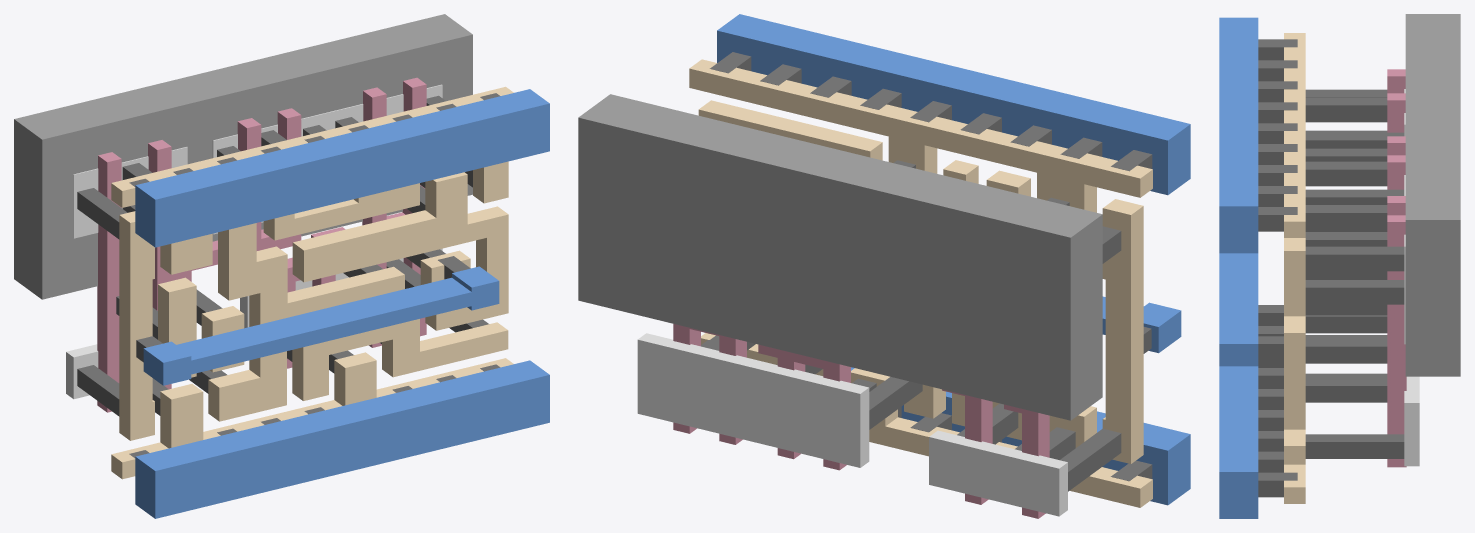
Rendered from sky130_fd_sc_hd__ebufn_2.gds.gltf.
3 views of the same model, side by side, from view 1: azimuth 30°, elevation 25°; view 2: azimuth 150°, elevation 25°; view 3: azimuth 270°, elevation 25° (orthographic). The views are drawn at different scales.
Parts seen in each view (by area): view 1: sky130_fd_sc_hd__ebufn_2_met1, sky130_fd_sc_hd__ebufn_2_li1, sky130_fd_sc_hd__ebufn_2_nwell, sky130_fd_sc_hd__ebufn_2_poly, sky130_fd_sc_hd__ebufn_2_licon, sky130_fd_sc_hd__ebufn_2_diff, sky130_fd_sc_hd__ebufn_2_mcon; view 2: sky130_fd_sc_hd__ebufn_2_nwell, sky130_fd_sc_hd__ebufn_2_li1, sky130_fd_sc_hd__ebufn_2_met1, sky130_fd_sc_hd__ebufn_2_diff, sky130_fd_sc_hd__ebufn_2_mcon, sky130_fd_sc_hd__ebufn_2_licon, sky130_fd_sc_hd__ebufn_2_poly; view 3: sky130_fd_sc_hd__ebufn_2_licon, sky130_fd_sc_hd__ebufn_2_nwell, sky130_fd_sc_hd__ebufn_2_met1, sky130_fd_sc_hd__ebufn_2_mcon, sky130_fd_sc_hd__ebufn_2_li1, sky130_fd_sc_hd__ebufn_2_poly, sky130_fd_sc_hd__ebufn_2_diff.
Part boxes in pixels (left/top/right/bottom): sky130_fd_sc_hd__ebufn_2_met1: left=135, top=89, right=549, bottom=518; sky130_fd_sc_hd__ebufn_2_li1: left=111, top=86, right=513, bottom=479; sky130_fd_sc_hd__ebufn_2_nwell: left=14, top=14, right=472, bottom=299; sky130_fd_sc_hd__ebufn_2_poly: left=97, top=77, right=426, bottom=412; sky130_fd_sc_hd__ebufn_2_licon: left=77, top=95, right=488, bottom=416; sky130_fd_sc_hd__ebufn_2_diff: left=66, top=84, right=442, bottom=399; sky130_fd_sc_hd__ebufn_2_mcon: left=129, top=93, right=500, bottom=457; sky130_fd_sc_hd__ebufn_2_nwell: left=578, top=94, right=1102, bottom=420; sky130_fd_sc_hd__ebufn_2_li1: left=689, top=59, right=1152, bottom=507; sky130_fd_sc_hd__ebufn_2_met1: left=717, top=14, right=1190, bottom=505; sky130_fd_sc_hd__ebufn_2_diff: left=637, top=333, right=1067, bottom=516; sky130_fd_sc_hd__ebufn_2_mcon: left=710, top=52, right=1152, bottom=481; sky130_fd_sc_hd__ebufn_2_licon: left=701, top=160, right=1121, bottom=491; sky130_fd_sc_hd__ebufn_2_poly: left=673, top=324, right=1049, bottom=518; sky130_fd_sc_hd__ebufn_2_licon: left=1305, top=89, right=1404, bottom=458; sky130_fd_sc_hd__ebufn_2_nwell: left=1405, top=14, right=1460, bottom=376; sky130_fd_sc_hd__ebufn_2_met1: left=1219, top=17, right=1258, bottom=518; sky130_fd_sc_hd__ebufn_2_mcon: left=1258, top=39, right=1297, bottom=497; sky130_fd_sc_hd__ebufn_2_li1: left=1284, top=33, right=1305, bottom=503; sky130_fd_sc_hd__ebufn_2_poly: left=1387, top=69, right=1406, bottom=467; sky130_fd_sc_hd__ebufn_2_diff: left=1404, top=89, right=1419, bottom=466.
Bounding box in the file's own units: 4.52 × 3.2 × 2.24.
